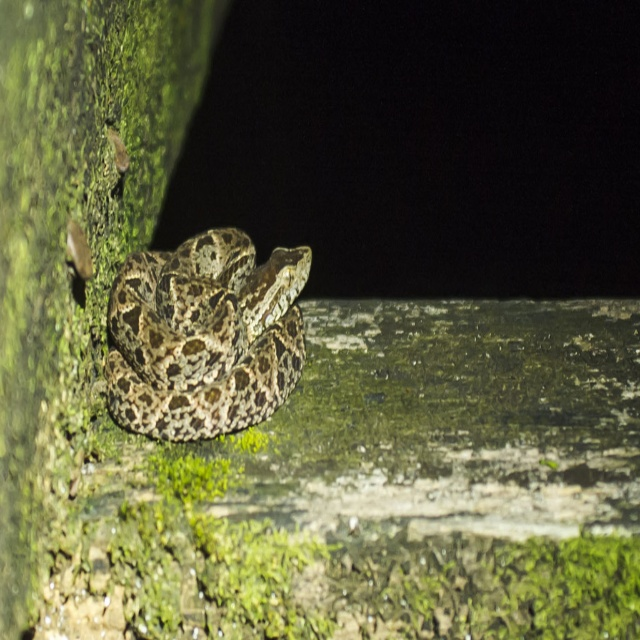Snake: (99, 201, 333, 480)
